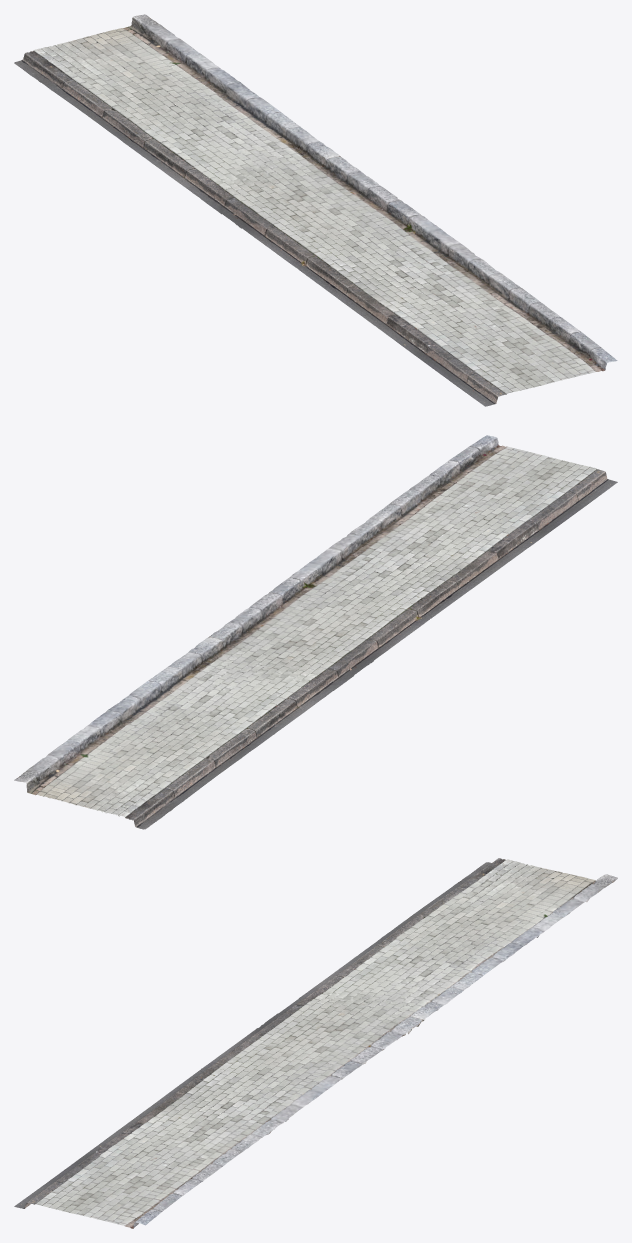
File: hq_free_long_sidewalk_3.glb
3 views of the same model, one above another, from view 1: azimuth 30°, elevation 25°; view 2: azimuth 150°, elevation 25°; view 3: azimuth 330°, elevation 25° (orthographic).
Visible parts, largest first — view 1: Object_2; view 2: Object_2; view 3: Object_2.
Part boxes in pixels (x1,y1,x2,y2): Object_2: (14, 14, 617, 406); Object_2: (14, 435, 617, 829); Object_2: (14, 858, 617, 1228).
Bounding box in the file's own units: 0.9881 × 0.1408 × 6.12.
1 material, 1 textured.
